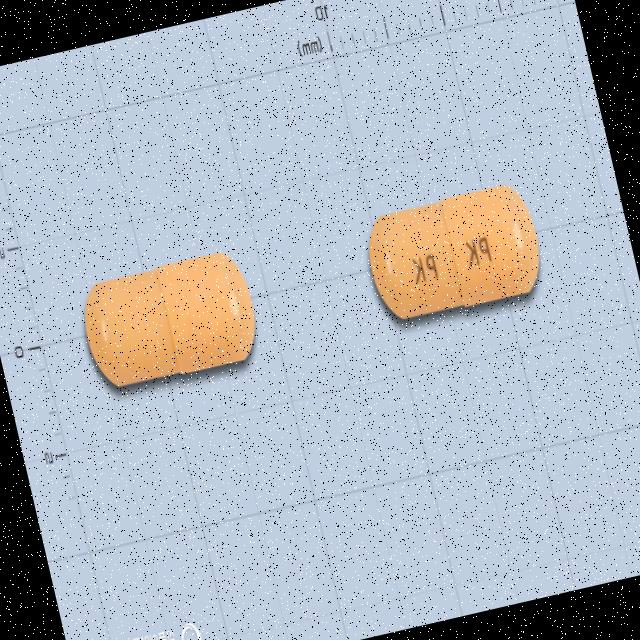Cefac Cap: (68, 240, 269, 402), (354, 174, 551, 332)
